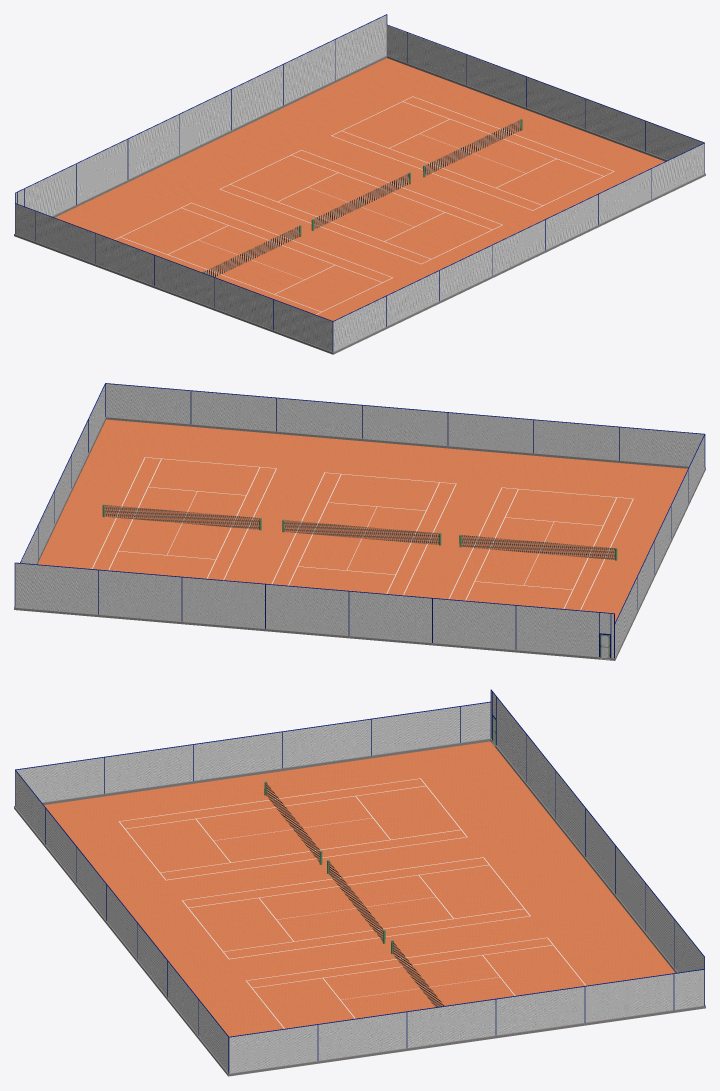
The model's file is Playground003.dae.
The picture shows the model from 3 angles, top to bottom: view 1: azimuth 30°, elevation 25°; view 2: azimuth 150°, elevation 25°; view 3: azimuth 270°, elevation 25°; orthographic projection. The views are drawn at different scales.
Visible parts, largest first — view 1: Component5 (×21), Component, Component4 (×2), Component14, Component1, Component9, Component8 (×3); view 2: Component5 (×21), Component, Component14, Component1, Component4 (×2), Component8 (×3), Component9, Component6 (×2); view 3: Component, Component5 (×20), Component4 (×2), Component14, Component1, Component9, Component8 (×3), Component13 (×2).
Boxes of the visible parts, x1,y1,x2,y2 form: Component5 (×21): (114,96,614,314); Component: (55,58,664,320); Component4 (×2): (15,25,703,351); Component14: (25,15,386,216); Component1: (333,143,704,351); Component9: (14,55,705,354); Component8 (×3): (204,120,520,277); Component5 (×21): (92,457,633,610); Component: (38,419,687,657); Component14: (15,563,598,656); Component1: (106,384,703,466); Component4 (×2): (21,385,704,656); Component8 (×3): (105,505,614,559); Component9: (14,417,705,660); Component6 (×2): (15,383,704,613); Component: (44,741,675,1036); Component5 (×20): (118,778,585,1028); Component4 (×2): (16,702,704,1073); Component14: (496,698,704,972); Component1: (15,771,228,1072); Component9: (14,738,705,1076); Component8 (×3): (266,783,444,1006); Component13 (×2): (15,701,704,1037).
Size of the model in its own units: 2334 by 2030 by 167.
Materials: 10 (7 with a texture image).
